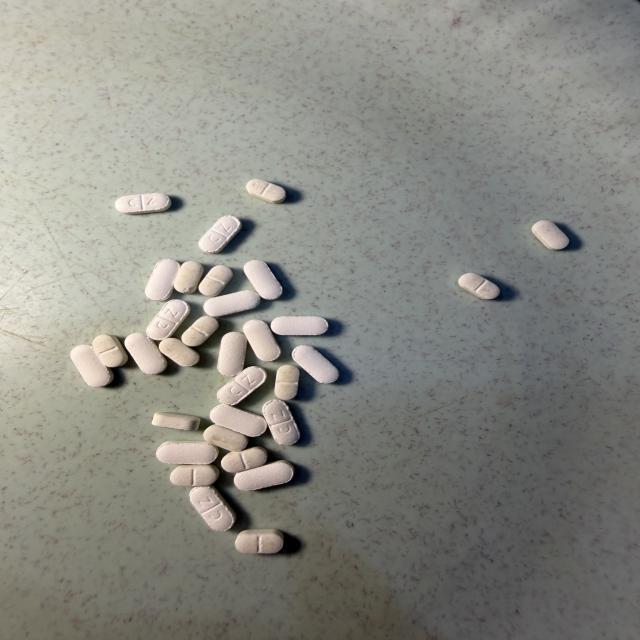pill: (190, 487, 235, 531), (217, 366, 266, 405), (234, 460, 294, 490), (292, 345, 339, 383), (210, 405, 266, 436), (71, 345, 113, 386), (147, 300, 190, 340), (125, 333, 166, 374), (263, 400, 299, 445), (243, 320, 281, 361), (199, 216, 241, 253), (204, 290, 260, 317), (244, 260, 282, 299), (156, 441, 218, 464), (145, 259, 179, 300), (217, 332, 247, 375), (115, 193, 171, 214), (221, 447, 267, 472), (204, 425, 248, 451), (236, 529, 283, 553), (93, 335, 128, 367), (159, 338, 199, 366), (182, 316, 219, 346), (532, 220, 569, 250), (458, 273, 500, 299), (170, 465, 219, 486), (271, 317, 328, 335), (199, 265, 232, 296), (247, 179, 286, 203), (174, 261, 203, 293), (152, 412, 200, 430), (275, 365, 299, 399)
